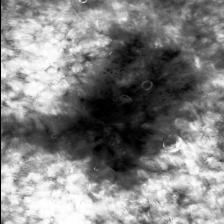Potentially Malignant Skin Tumors: (72, 45, 195, 180)
